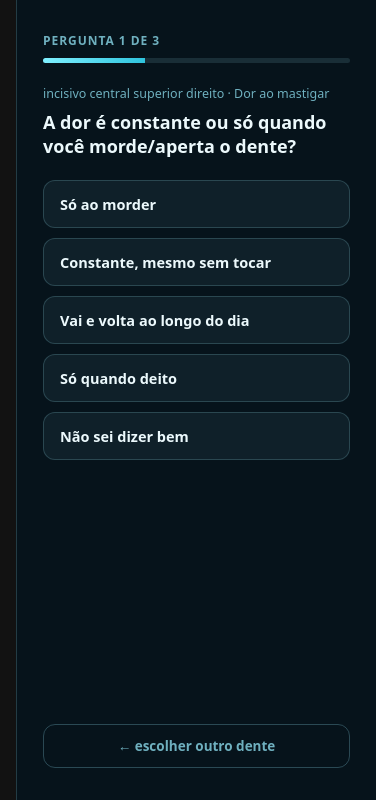
Test: QuestionFlow › avanca pra proxima pergunta ao responder
Click the button "Só ao morder".
click(108, 204)  # box top-left (43, 180), bottom-right (350, 228)
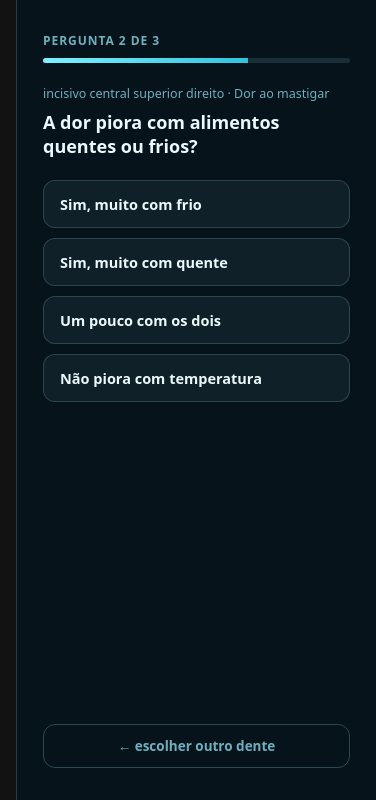
Now the text "pergunta 2 de 3" is shown, box top-left (43, 32), bottom-right (160, 49)
